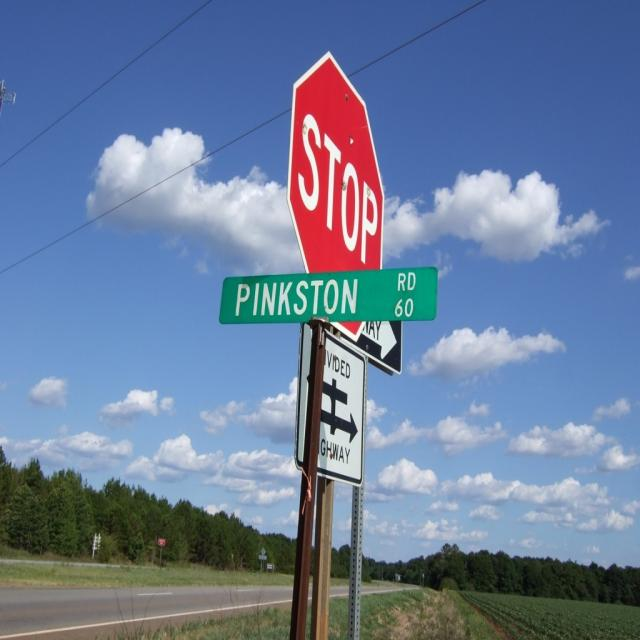Stop-sign: (286, 50, 386, 341)
